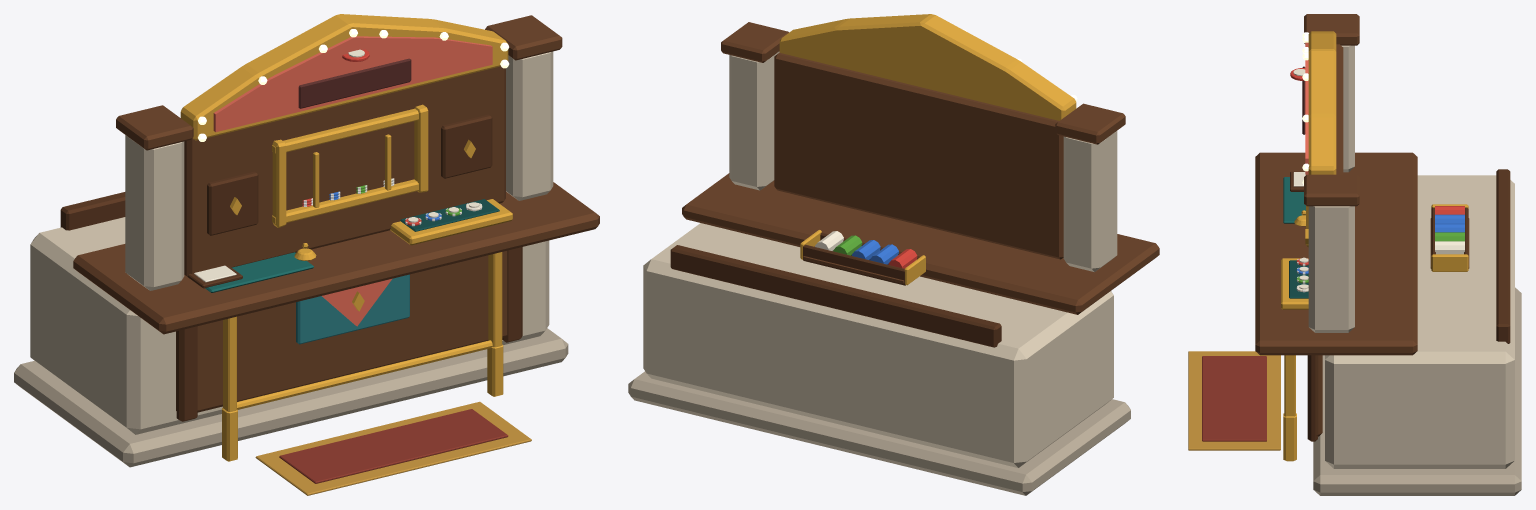
The model's file is cash_out_booth.glb.
3 views of the same model, side by side, from view 1: azimuth 30°, elevation 25°; view 2: azimuth 150°, elevation 25°; view 3: azimuth 270°, elevation 25° (orthographic). The views are drawn at different scales.
Parts seen in each view (by area): view 1: cash_out_booth; view 2: cash_out_booth; view 3: cash_out_booth.
Part boxes in pixels (<box>): cash_out_booth: <box>14,14,599,495</box>; cash_out_booth: <box>628,14,1159,495</box>; cash_out_booth: <box>1188,14,1521,495</box>.
Bounding box in the file's own units: 1.98 × 1.68 × 1.44.
